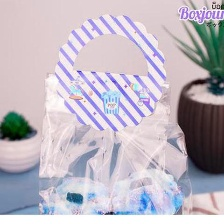snack: (32, 8, 197, 213)
